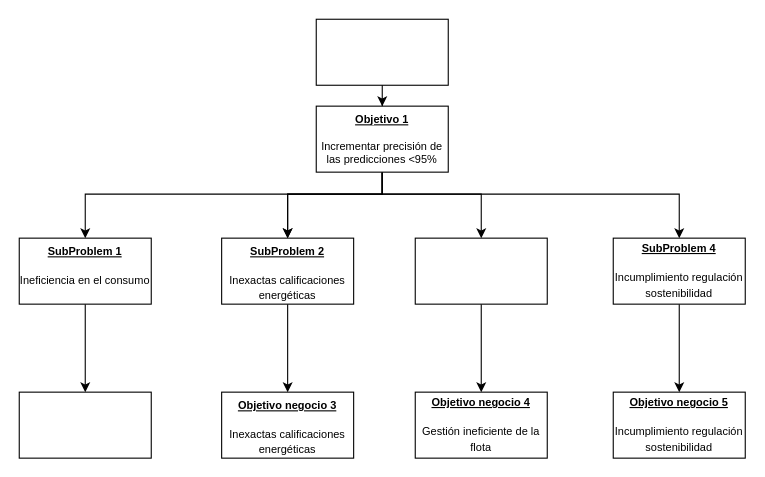
This 765x477 diagram has some shape labels left out. Each missing label, with the box of its shape:
Main Problem Baja precisión de las predicciones: (315, 18, 448, 85)
Objetivo negocio 2 Ineficiencia en el consumo: (18, 391, 151, 458)
SubProblem 3 Gestión ineficiente de la flota: (414, 237, 547, 304)
